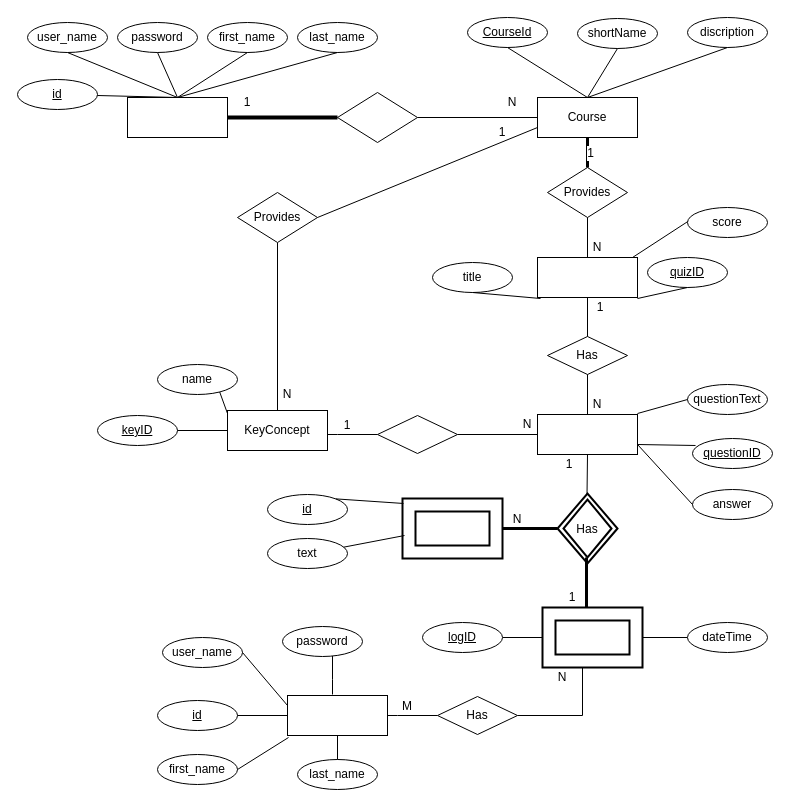
Image size: 790x807. Some labels were removed from this diagram. The shapes that lost their labels are listed below. From the top down, each one's centre as x and y in pixels, then its label:
At point (177, 117): "Educator".
At point (377, 117): "Teachs".
At point (587, 277): "Quiz/Survey".
At point (417, 434): "Related to".
At point (587, 434): "Question".
At point (452, 528): "WrongAnswer".
At point (592, 637): "UsageLog".
At point (337, 715): "Student".
